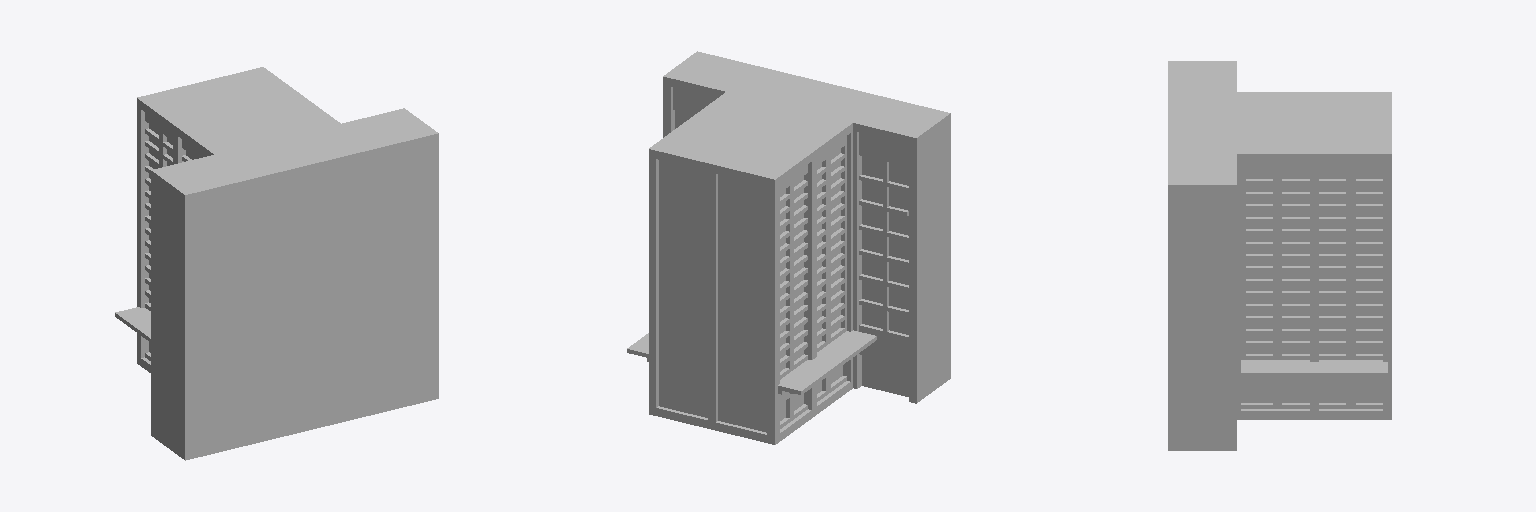
Rendered from The Vault-11.obj.
3 views of the same model, side by side, from view 1: azimuth 30°, elevation 25°; view 2: azimuth 150°, elevation 25°; view 3: azimuth 270°, elevation 25° (orthographic).
Visible parts, largest first — view 1: The Vault-11; view 2: The Vault-11; view 3: The Vault-11.
Part boxes in pixels (bbox=[...]): The Vault-11: bbox=[115, 67, 438, 460]; The Vault-11: bbox=[627, 51, 950, 444]; The Vault-11: bbox=[1168, 61, 1391, 450].
Bounding box in the file's own units: 64 × 64 × 49.